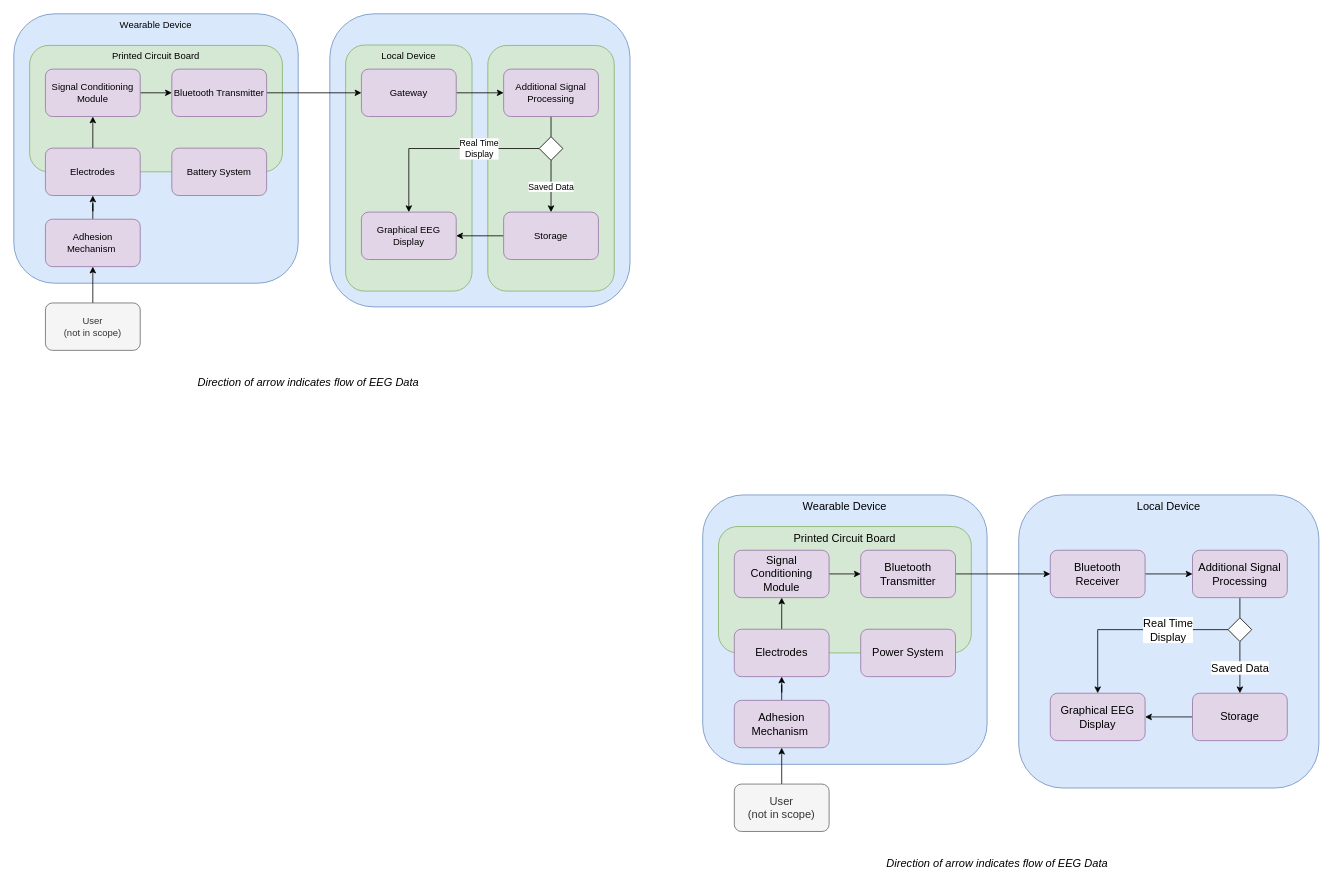
This 1333x889 diagram has some shape labels left out. The shapes that lost their labels are listed below. From the top down, each one's box as (x1, y1, x2, y2) in pixels, then its label:
(329, 13, 630, 307): Web Service
(487, 45, 614, 291): AWS Server
